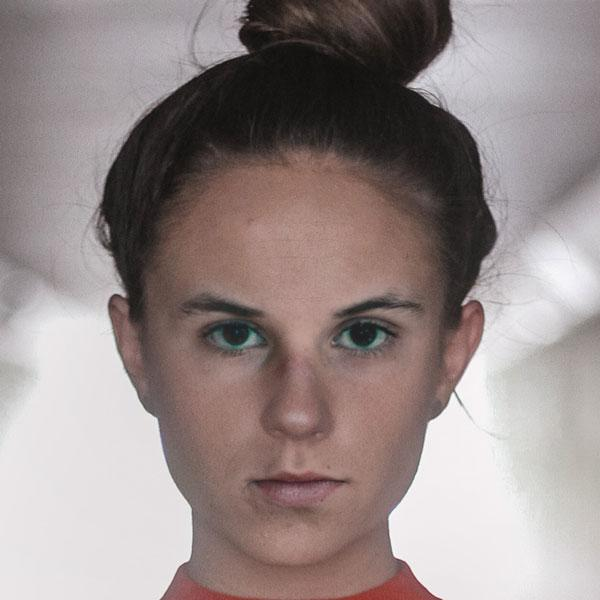Eyes: (188, 307, 277, 363), (324, 306, 408, 365)
